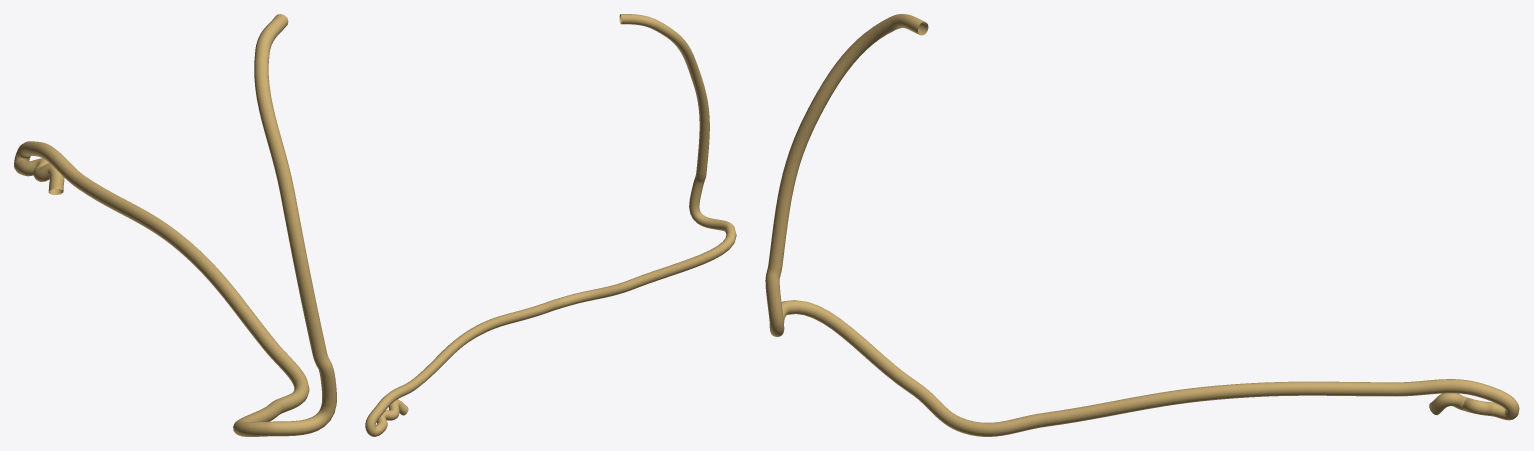
3 renders of one model, left to right at view 1: azimuth 30°, elevation 25°; view 2: azimuth 150°, elevation 25°; view 3: azimuth 270°, elevation 25°, orthographic. The views are drawn at different scales.
Parts seen in each view (by area): view 1: 右侧输精管; view 2: 右侧输精管; view 3: 右侧输精管.
Part boxes in pixels (x1,y1,x2,y2): 右侧输精管: (14, 14, 336, 436); 右侧输精管: (365, 14, 736, 436); 右侧输精管: (765, 14, 1519, 436).
Bounding box in the file's own units: 0.0571 × 0.1341 × 0.2344.
